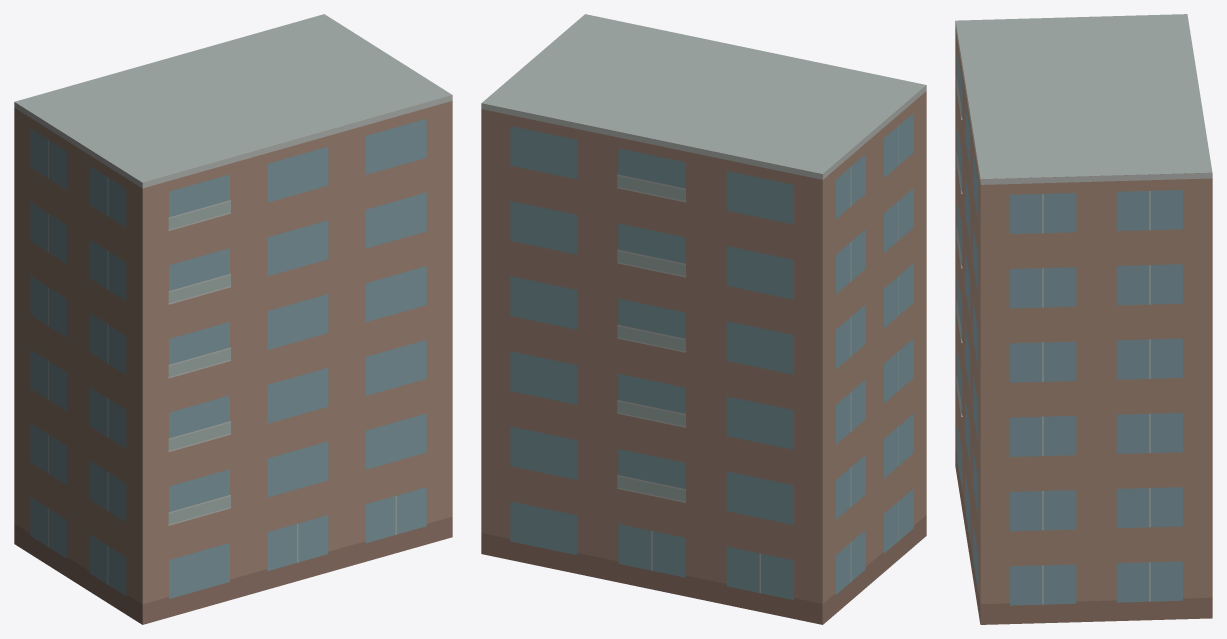
File: survey-upis-32523182.glb
3 renders of one model, left to right at view 1: azimuth 30°, elevation 25°; view 2: azimuth 150°, elevation 25°; view 3: azimuth 270°, elevation 25°, orthographic.
Parts seen in each view (by area): view 1: survey-upis-32523182.tmp; view 2: survey-upis-32523182.tmp; view 3: survey-upis-32523182.tmp.
Boxes of the visible parts, x1,y1,x2,y2 form: survey-upis-32523182.tmp: (14, 14, 452, 624); survey-upis-32523182.tmp: (481, 14, 926, 624); survey-upis-32523182.tmp: (955, 14, 1212, 624).
Bounding box in the file's own units: 14.96 × 18.81 × 9.84.
